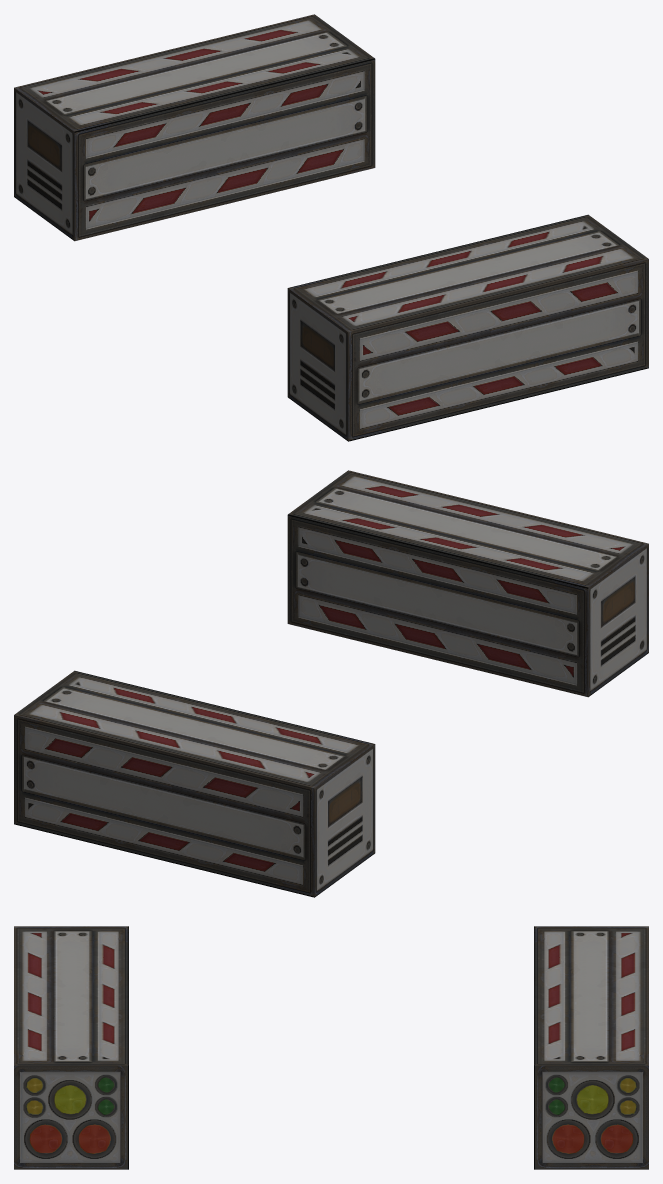
Rendered from accessories_rocket_launcher.FBX.
The picture shows the model from 3 angles, top to bottom: view 1: azimuth 30°, elevation 25°; view 2: azimuth 150°, elevation 25°; view 3: azimuth 270°, elevation 25°; orthographic projection. The views are drawn at different scales.
Parts seen in each view (by area): view 1: Object006, Object010; view 2: Object006, Object010; view 3: Object006, Object010.
Part boxes in pixels (x1,y1,x2,y2): Object006: (14,14,375,241); Object010: (287,214,648,441); Object006: (14,670,375,897); Object010: (287,470,648,697); Object006: (534,926,648,1169); Object010: (14,926,128,1169).
Size of the model in its own units: 28.22 by 9.8 by 54.34.
